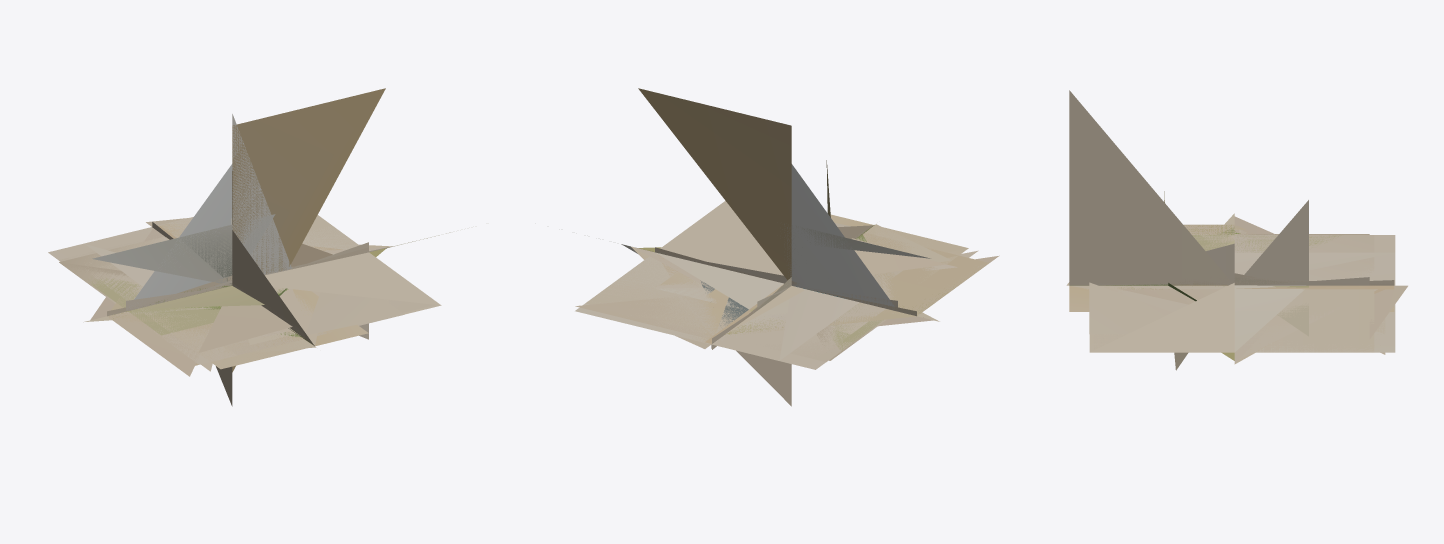
3 renders of one model, left to right at view 1: azimuth 30°, elevation 25°; view 2: azimuth 150°, elevation 25°; view 3: azimuth 270°, elevation 25°, orthographic.
Visible parts, largest first — view 1: mesh_poisson.ply; view 2: mesh_poisson.ply; view 3: mesh_poisson.ply.
Part boxes in pixels (x1,y1,x2,y2): mesh_poisson.ply: [48, 88, 450, 406]; mesh_poisson.ply: [575, 88, 999, 406]; mesh_poisson.ply: [1066, 90, 1407, 370].
Bounding box in the file's own units: 1.79e+30 × 1.82e+30 × 1.25e+30.
